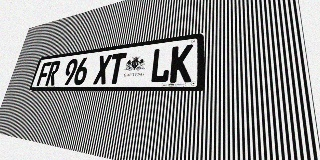6: (73, 57, 90, 85)
9: (62, 58, 79, 85)
F: (36, 62, 52, 86)
K: (169, 44, 193, 83)
L: (149, 47, 172, 83)
R: (45, 61, 61, 86)
T: (107, 52, 127, 84)
X: (93, 54, 112, 85)
